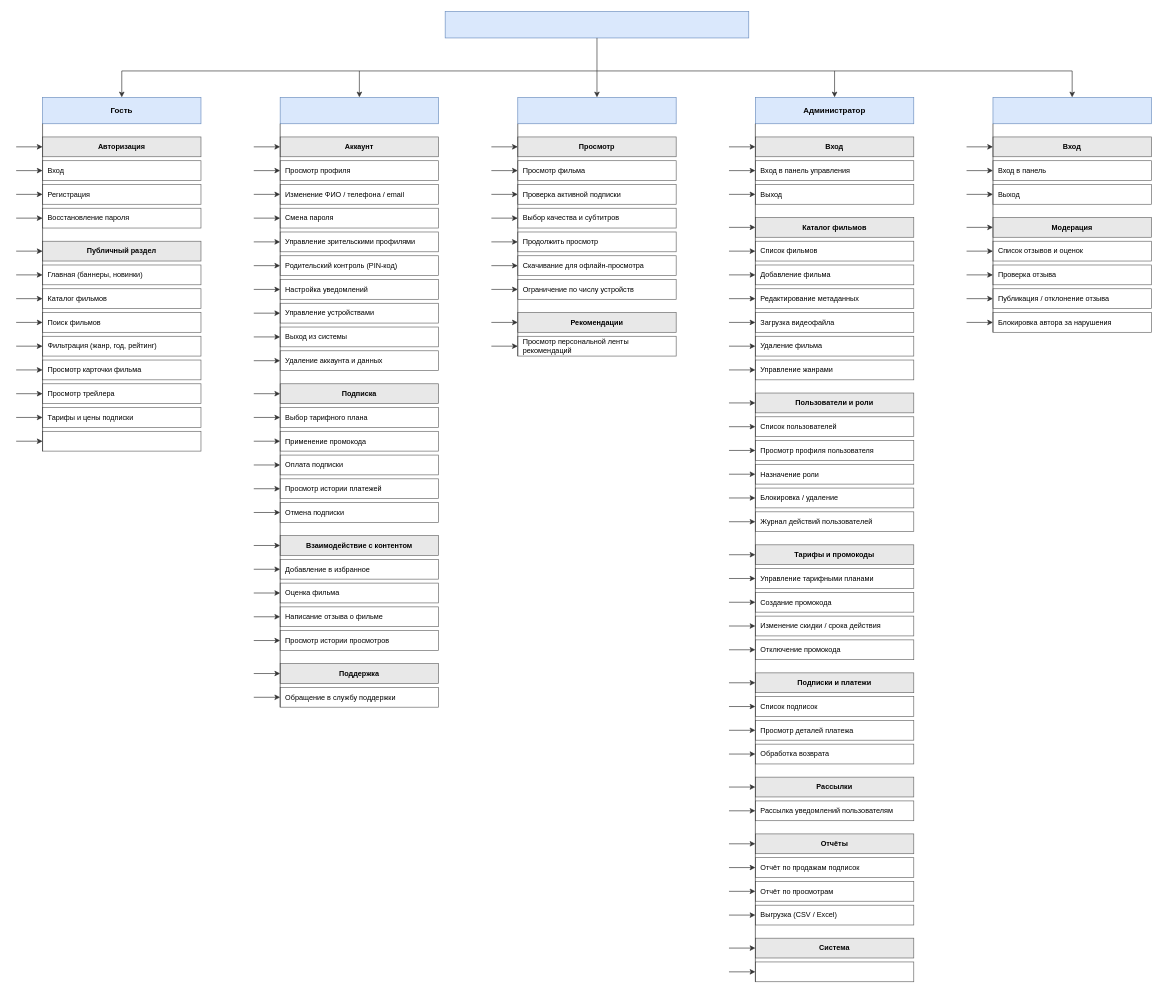
Image size: 1163x994. Some labels were removed from this diagram. Each missing label, with the centre of its shape:
"Контакты и правила сервиса" goes at (x=121, y=441).
"Модератор" goes at (x=1071, y=110).
"Подписчик" goes at (x=596, y=110).
"Пользователь" goes at (x=359, y=110).
"Резервное копирование БД" goes at (x=834, y=971).
"Функциональная схема сайта онлайн-кинотеатра" goes at (x=597, y=24).
